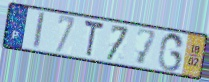7: (54, 14, 78, 55), (106, 24, 131, 62), (135, 27, 157, 67)
G: (156, 31, 186, 73)
I: (32, 10, 47, 51)
T: (82, 18, 105, 59)
